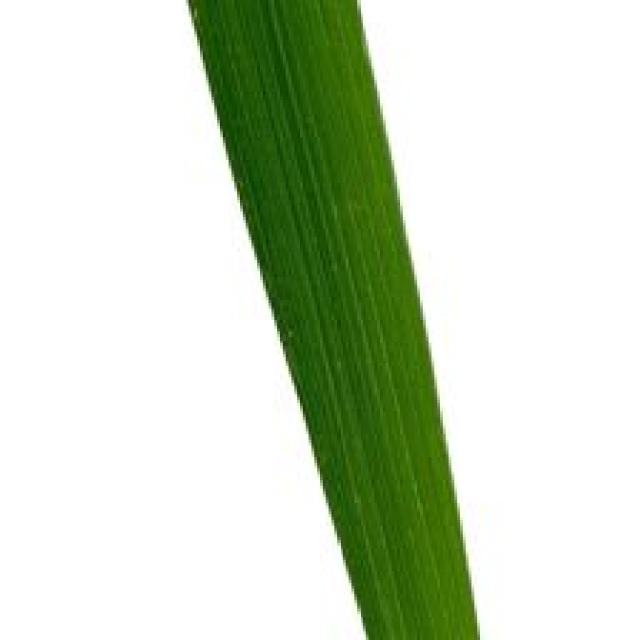Rice___Healthy_Rice_Plant: (185, 0, 480, 637)
